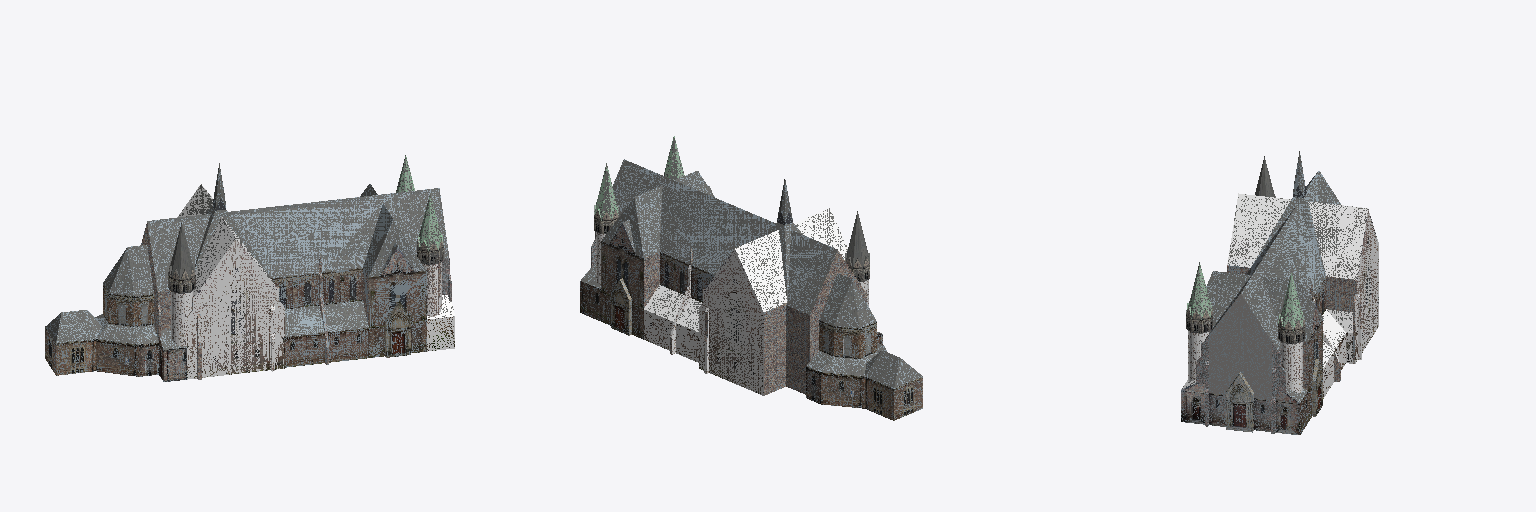
The picture shows the model from 3 angles: view 1: azimuth 30°, elevation 25°; view 2: azimuth 150°, elevation 25°; view 3: azimuth 270°, elevation 25°; orthographic projection.
Parts seen in each view (by area): view 1: Mesh7 Group1 Model, Mesh5 Group4 Group1 Model, Mesh1 Group2 Group1 Model; view 2: Mesh7 Group1 Model, Mesh3 Group3 Group1 Model, Mesh5 Group4 Group1 Model; view 3: Mesh7 Group1 Model, Mesh1 Group2 Group1 Model, Mesh3 Group3 Group1 Model.
Part boxes in pixels (left/top/right/bottom): Mesh7 Group1 Model: left=45, top=163, right=454, bottom=381; Mesh5 Group4 Group1 Model: left=168, top=223, right=195, bottom=293; Mesh1 Group2 Group1 Model: left=417, top=194, right=443, bottom=264; Mesh7 Group1 Model: left=580, top=159, right=922, bottom=420; Mesh3 Group3 Group1 Model: left=594, top=163, right=618, bottom=233; Mesh5 Group4 Group1 Model: left=845, top=211, right=869, bottom=281; Mesh7 Group1 Model: left=1181, top=151, right=1378, bottom=434; Mesh1 Group2 Group1 Model: left=1186, top=262, right=1212, bottom=333; Mesh3 Group3 Group1 Model: left=1278, top=273, right=1304, bottom=343.
Size of the model in its own units: 69.98 by 34.97 by 33.73.
41 materials, 37 textured.